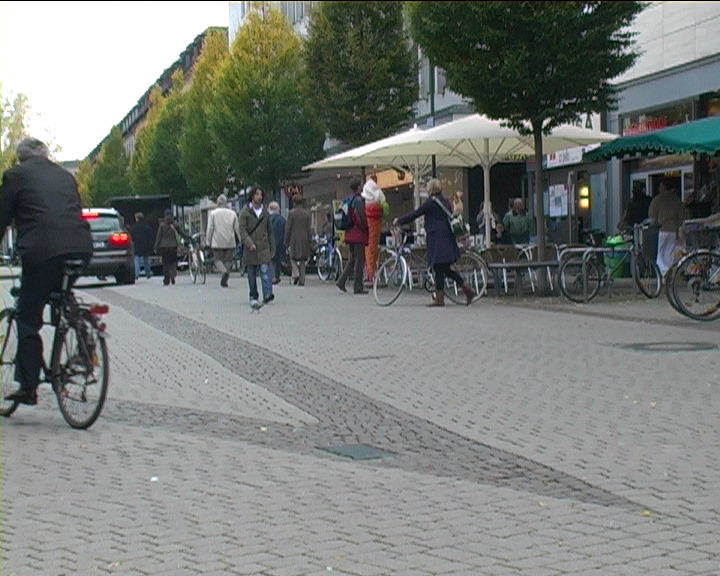undeflect: (7, 125, 86, 214), (238, 183, 271, 222)
